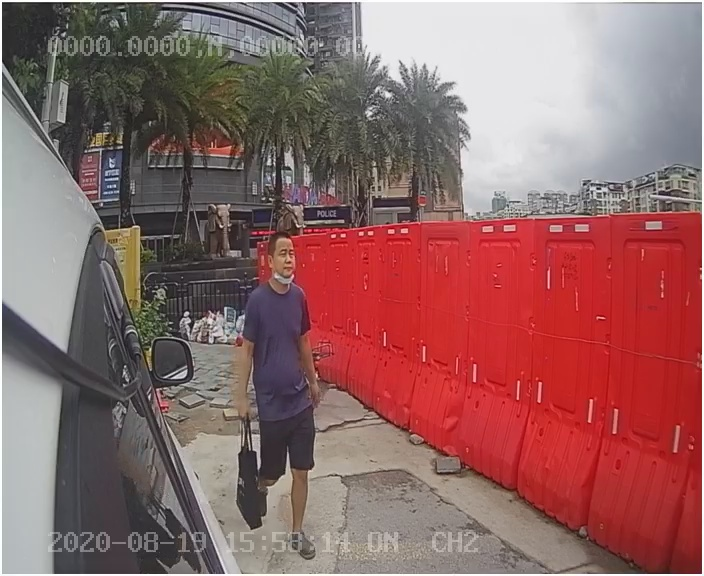person: (224, 232, 363, 534)
